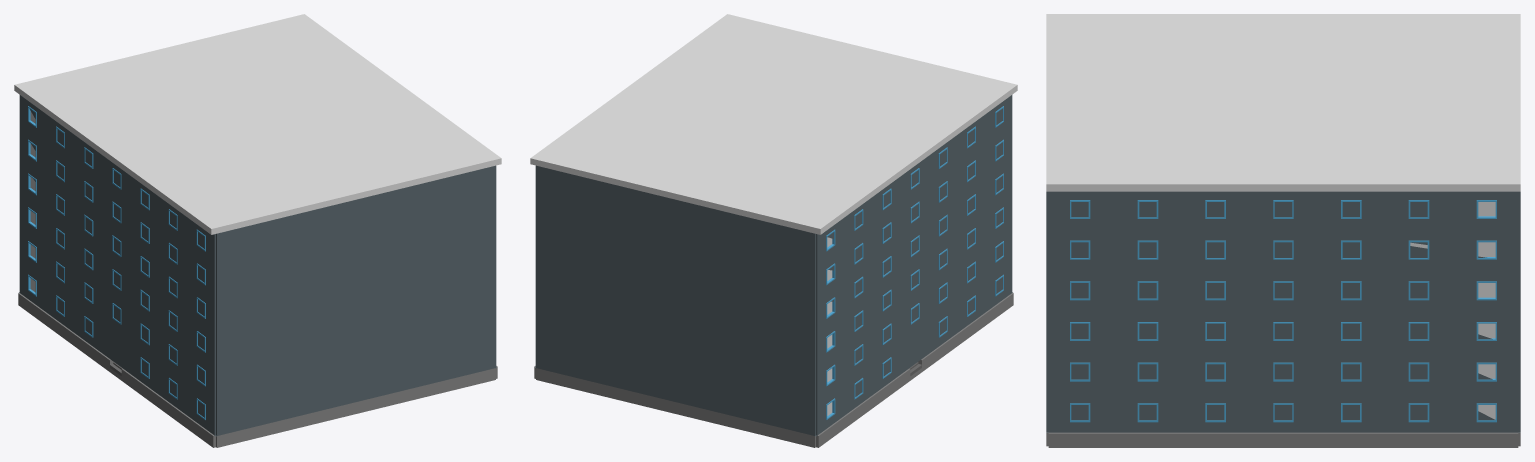
3 views of the same model, side by side, from view 1: azimuth 30°, elevation 25°; view 2: azimuth 150°, elevation 25°; view 3: azimuth 270°, elevation 25° (orthographic). The views are drawn at different scales.
Parts seen in each view (by area): view 1: BR30_F06_02; view 2: BR30_F06_02; view 3: BR30_F06_02.
Boxes of the visible parts, box(x1,y1,x2,y2) form: BR30_F06_02: box(14, 14, 501, 447); BR30_F06_02: box(530, 14, 1017, 447); BR30_F06_02: box(1046, 14, 1520, 447).
Bounding box in the file's own units: 2550 × 1850 × 3000.
